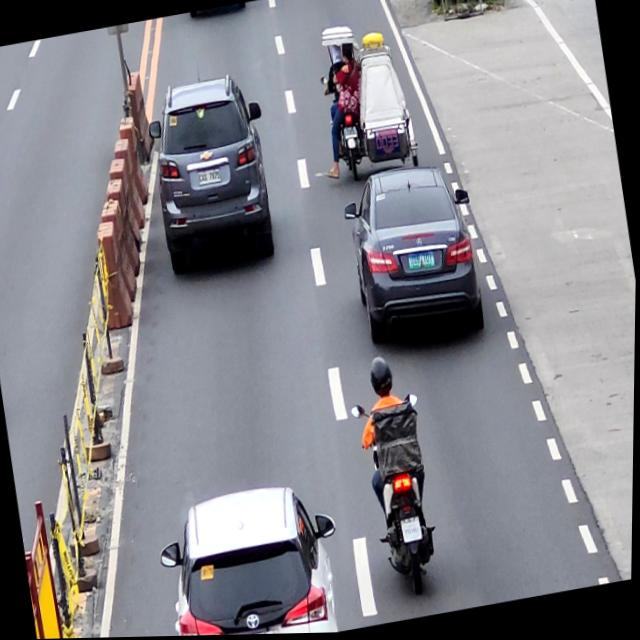Car: (154, 476, 353, 637), (338, 160, 493, 361), (141, 73, 286, 280)
License-Plate: (408, 250, 437, 273), (198, 169, 223, 187), (345, 129, 358, 141)
Motorcycle: (348, 393, 450, 607)
Tricycle: (315, 16, 423, 185)
